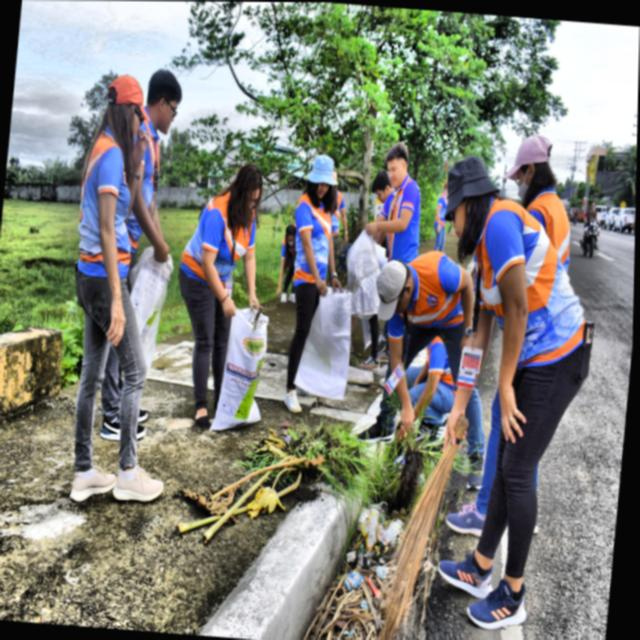clogged_drains: (241, 479, 450, 640)
